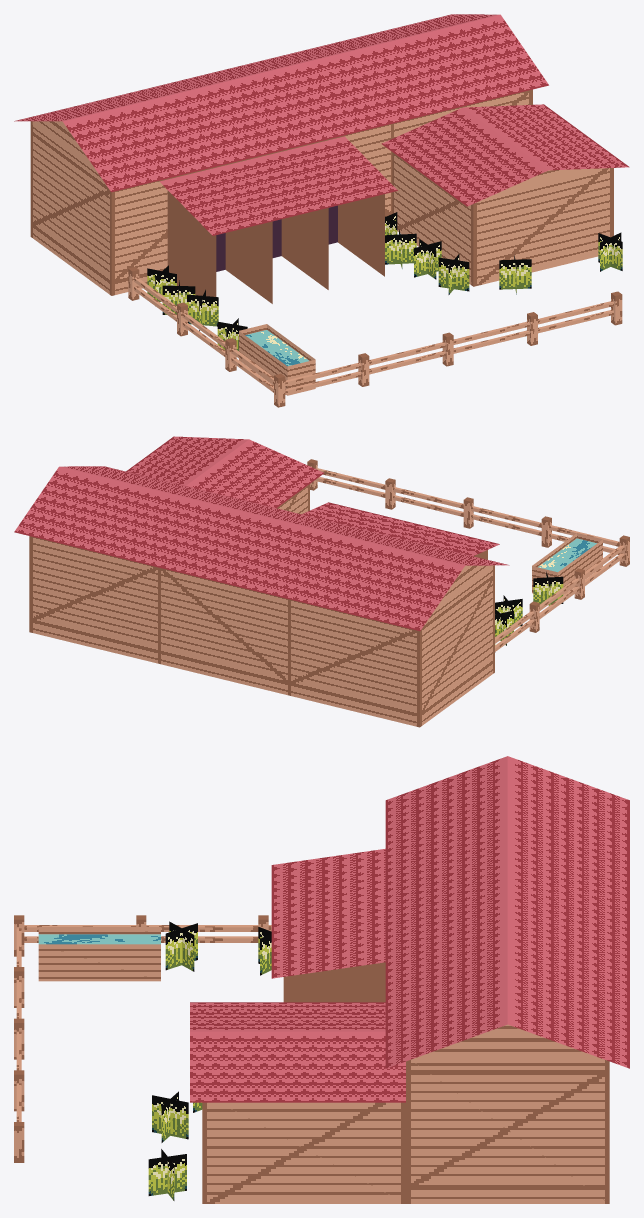
Rendered from stable.glb.
The picture shows the model from 3 angles, top to bottom: view 1: azimuth 30°, elevation 25°; view 2: azimuth 150°, elevation 25°; view 3: azimuth 270°, elevation 25°; orthographic projection. The views are drawn at different scales.
Parts seen in each view (by area): view 1: stable; view 2: stable; view 3: stable.
Boxes of the visible parts, x1,y1,x2,y2 form: stable: [14, 14, 629, 407]; stable: [14, 436, 629, 727]; stable: [14, 756, 629, 1203].
Bounding box in the file's own units: 15.7 × 5 × 15.12.
Materials: 1 (1 with a texture image).
